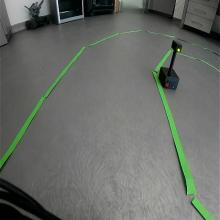green: (171, 40, 182, 54)
